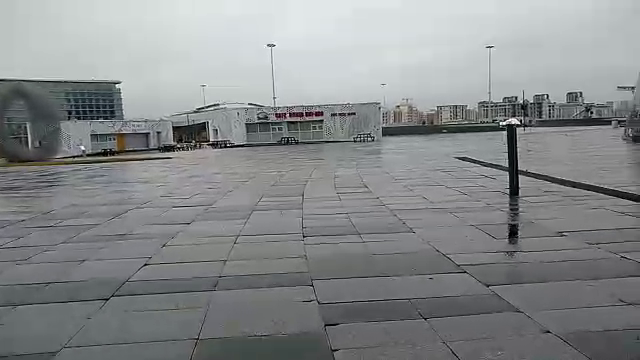kebab: (245, 106, 378, 144)
